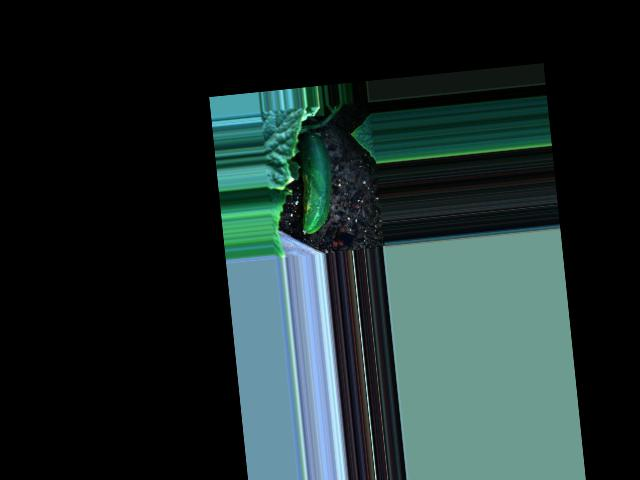cucumber: (292, 131, 337, 235)
